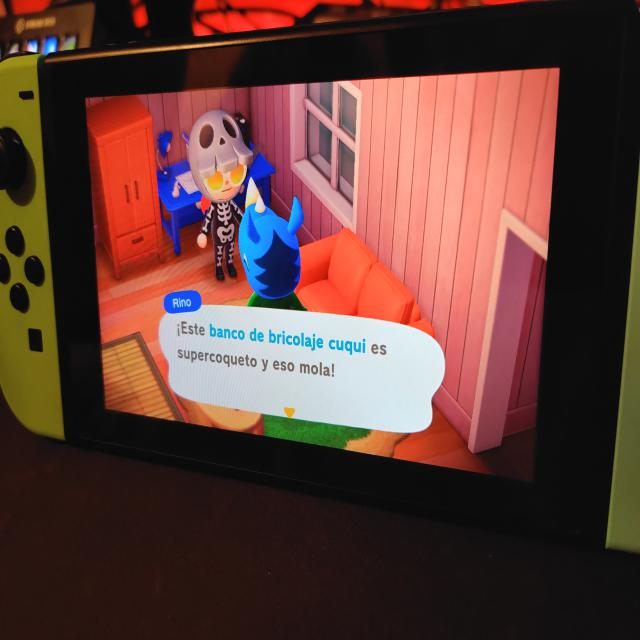text_bubble: (158, 289, 447, 438)
